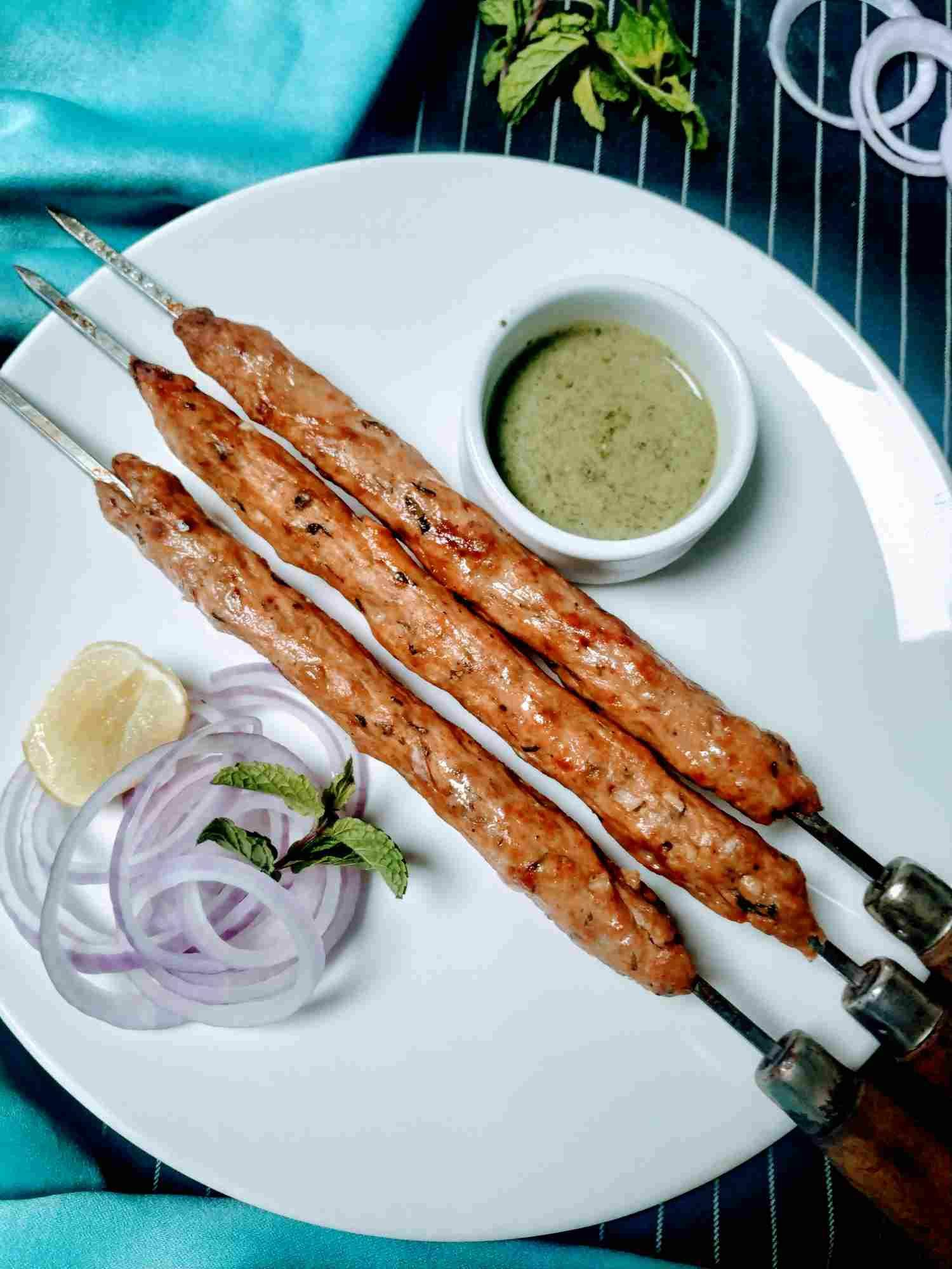GreenChutney: (493, 321, 716, 538)
Kebab: (125, 355, 826, 955), (166, 304, 823, 823), (93, 452, 691, 996)
